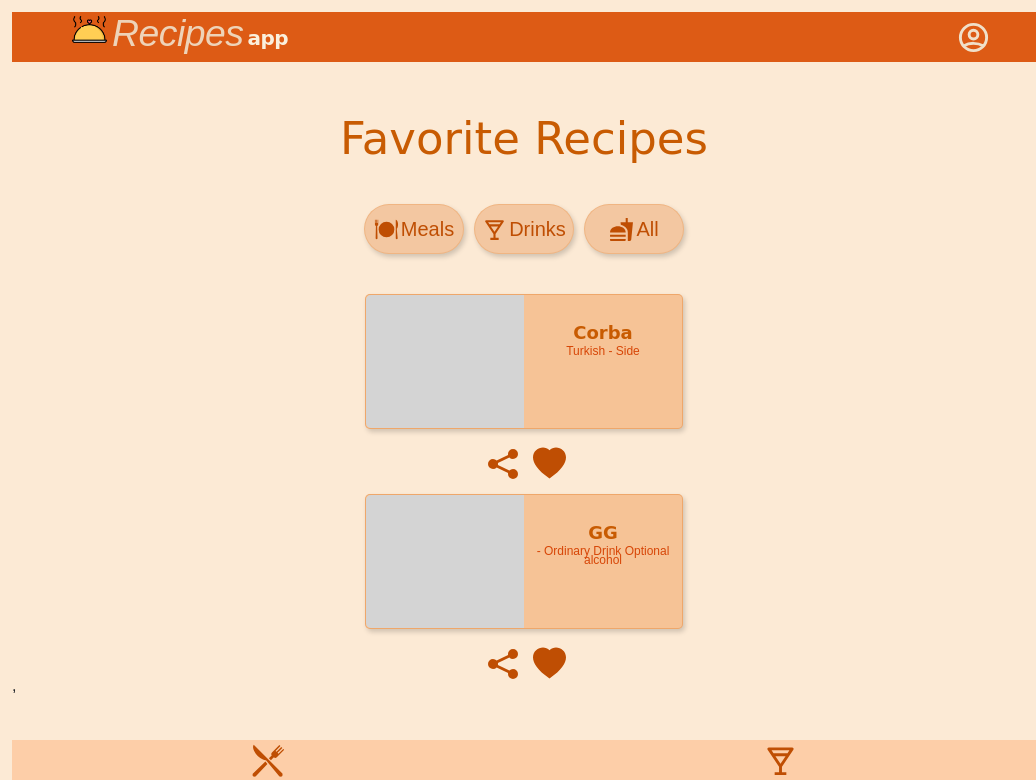
Testa as bebidas › Testa o filtro drinks
Step 1. Click the button with test id "filter-by-drink-btn" → (524, 229), box [474,204,574,254]
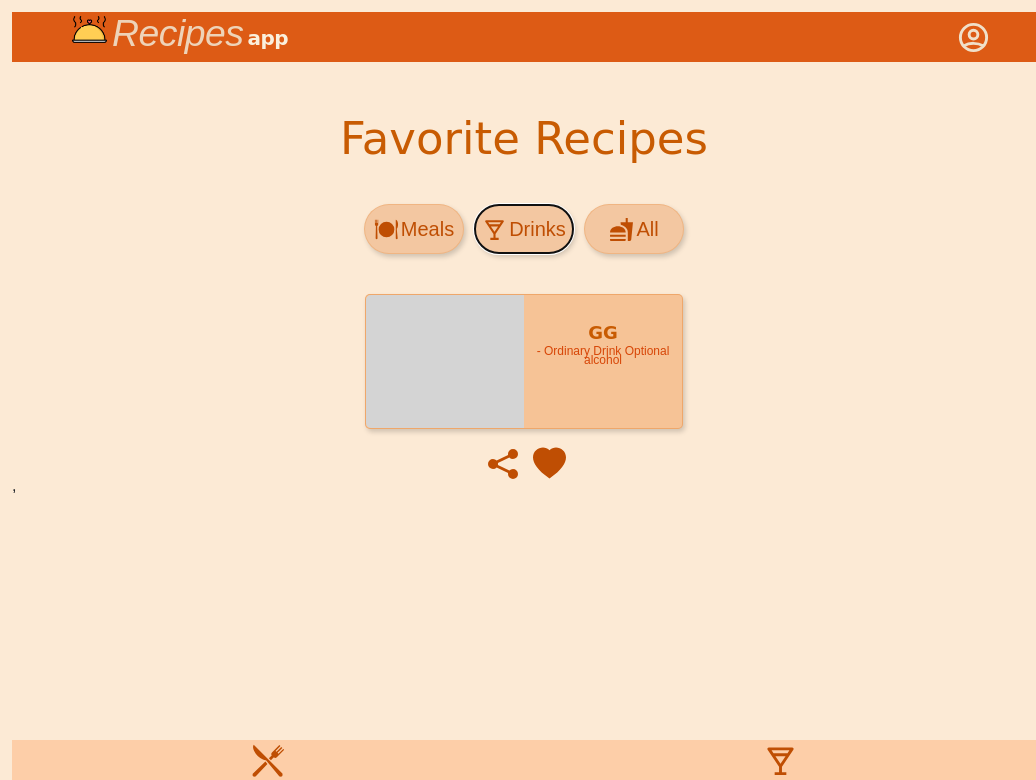
Check: the link "Corba" is gone
